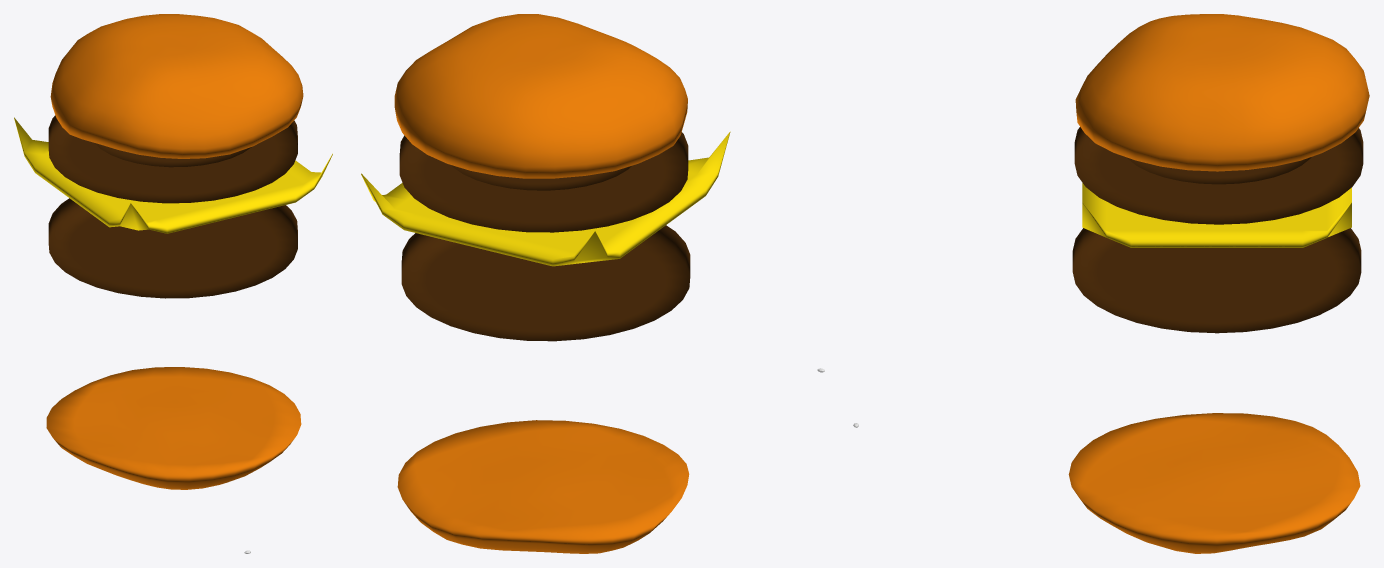
Rendered from Burger2.glb.
3 views of the same model, side by side, from view 1: azimuth 30°, elevation 25°; view 2: azimuth 150°, elevation 25°; view 3: azimuth 270°, elevation 25° (orthographic). The views are drawn at different scales.
Parts seen in each view (by area): view 1: Sphere, Sphere.001, Circle, Circle.001, Plane; view 2: Sphere, Sphere.001, Circle, Circle.001, Plane; view 3: Sphere, Sphere.001, Circle, Circle.001, Plane.
Part boxes in pixels (x1,y1,x2,y2): Sphere: (50, 14, 303, 158); Sphere.001: (46, 367, 301, 489); Circle: (48, 198, 297, 298); Circle.001: (48, 115, 297, 203); Plane: (14, 117, 332, 233); Sphere: (394, 14, 687, 178); Sphere.001: (397, 420, 689, 553); Circle: (401, 225, 690, 341); Circle.001: (399, 132, 688, 232); Plane: (361, 131, 730, 266); Sphere: (1075, 14, 1369, 171); Sphere.001: (1068, 413, 1360, 553); Circle: (1072, 228, 1361, 333); Circle.001: (1074, 127, 1363, 224); Plane: (1082, 183, 1351, 247).
Bounding box in the file's own units: 3.53 × 6.3 × 6.19.
